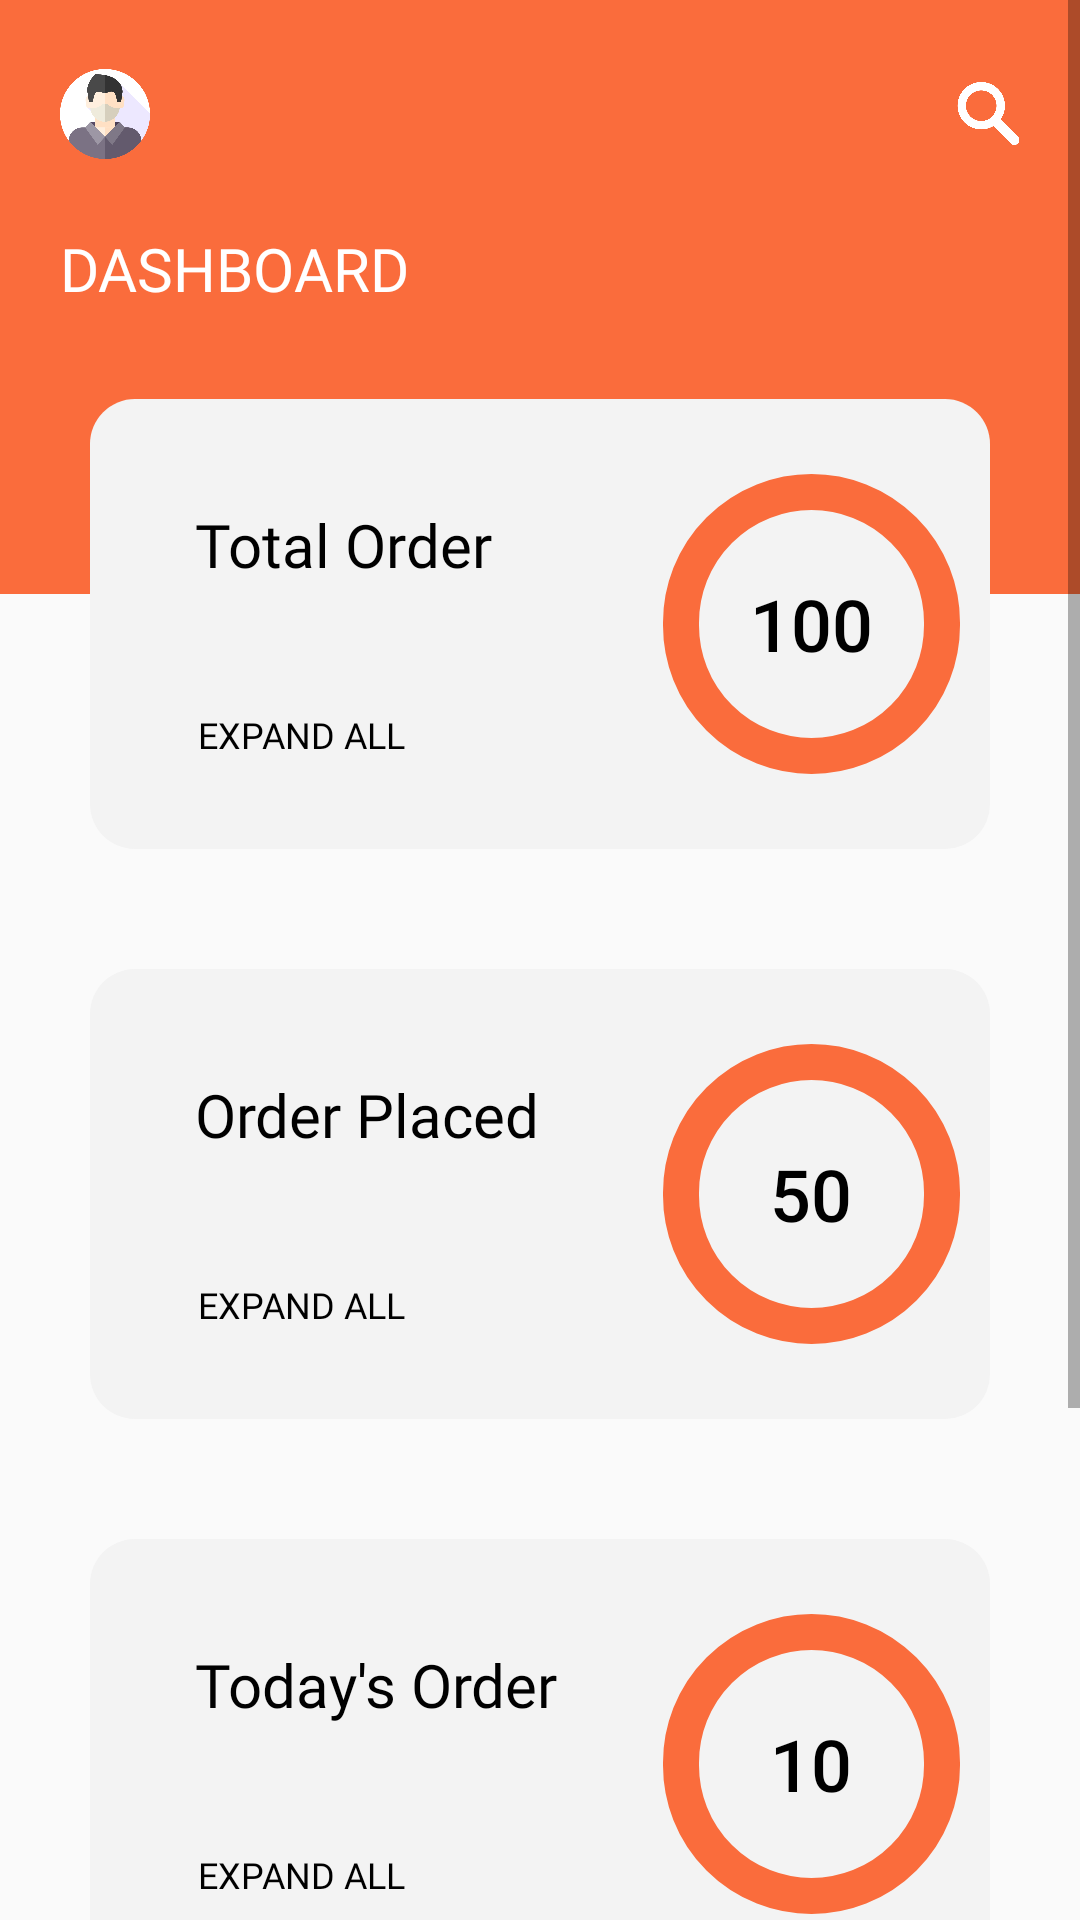

Icon click points for this 1080w x 1920h phone screenshot, format (x=x, y=y):
profile: (x=105, y=114)
search: (x=988, y=113)
